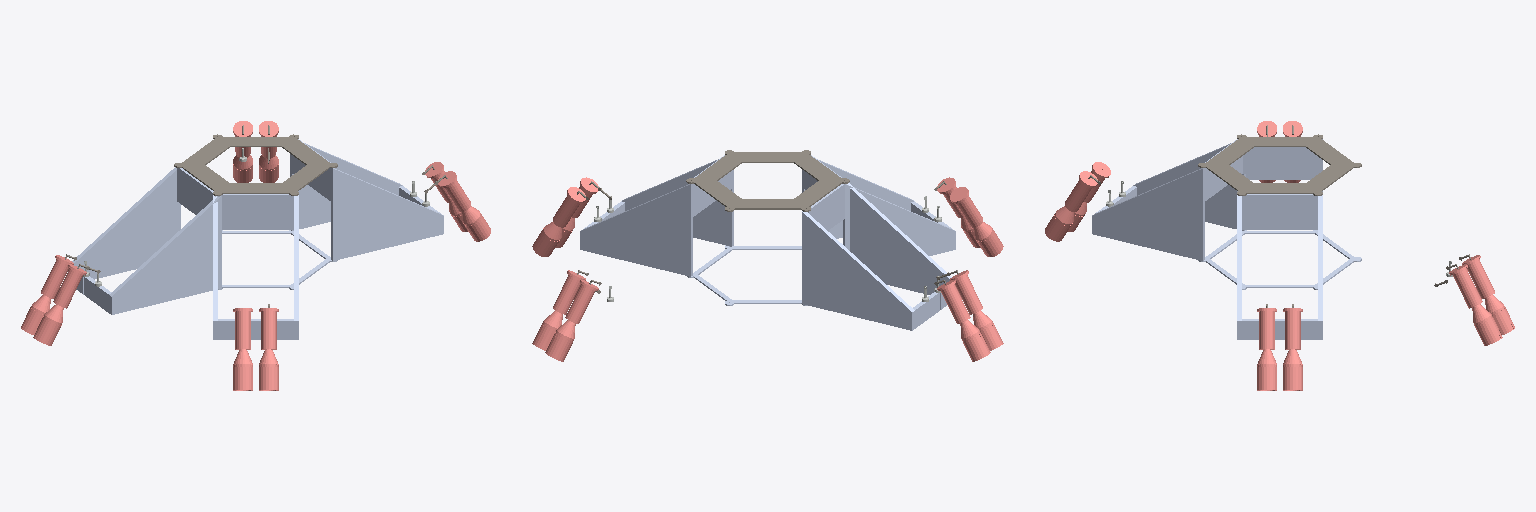
--- Facts derived from the render (not from the file) ---
The picture shows the robot from 3 angles, left to right: view 1: azimuth 30°, elevation 25°; view 2: azimuth 150°, elevation 25°; view 3: azimuth 270°, elevation 25°; orthographic projection.
Robot: msl_skycrane — 38 links, 37 joints (37 fixed); root link base_link; default pose: all joints at 0.
Visible links, largest first — view 1: arm_3, arm_1, arm_2, top_plate, engine_30, engine_20, engine_21, engine_11, engine_31, engine_01, engine_00, base_link (+1 smaller); view 2: arm_3, arm_1, top_plate, arm_2, engine_31, engine_00, engine_21, engine_10, engine_30, engine_01, base_link, engine_20 (+1 smaller); view 3: arm_2, arm_1, top_plate, arm_3, engine_01, engine_10, engine_11, engine_20, base_link, engine_00, engine_21.
Boxes of the visible links, x1,y1,x2,y2 form: arm_3: (72,167,221,314); arm_1: (290,139,443,260); arm_2: (213,194,298,339); top_plate: (174,134,337,195); engine_30: (33,264,86,345); engine_20: (259,308,278,390); engine_21: (233,308,252,390); engine_11: (438,171,490,241); engine_31: (21,255,73,334); engine_01: (259,121,278,182); engine_00: (233,121,252,182); base_link: (218,230,337,289); arm_3: (802,183,951,330); arm_1: (580,155,733,276); top_plate: (686,150,849,211); arm_2: (802,155,955,255); engine_31: (937,280,990,361); engine_00: (545,280,598,361); engine_21: (950,187,1003,256); engine_10: (532,187,585,256); engine_30: (950,270,1003,350); engine_01: (532,270,585,350); base_link: (687,245,807,305); engine_20: (937,177,980,247); arm_2: (1092,139,1245,260); arm_1: (1237,194,1322,339); top_plate: (1198,134,1361,195); arm_3: (1237,139,1322,191); engine_01: (1449,264,1502,345); engine_10: (1283,308,1302,390); engine_11: (1257,308,1276,390); engine_20: (1045,171,1097,241); base_link: (1198,230,1361,289); engine_00: (1462,255,1514,334); engine_21: (1068,162,1110,231).
Size in the robot's own frame: 10.27 by 9.21 by 2.66 metres.
30 mesh visuals loaded from 38 distinct referenced files (30 binary STL); not drawn: 8 (reference not matched to a file when rendering).

robot.urdf — msl_skycrane:
<robot
  name="msl_skycrane">
  <link
    name="base_link">
    <inertial>
      <origin
        xyz="0.082244 -1.9129 -0.12297"
        rpy="0 0 0" />
      <mass
        value="85.813" />
      <inertia
        ixx="77.114"
        ixy="3.0214E-17"
        ixz="2.8095E-13"
        iyy="154.22"
        iyz="-8.04E-17"
        izz="77.114" />
    </inertial>
    <visual>
      <origin
        xyz="0 0 0"
        rpy="0 0 0" />
      <geometry>
        <mesh
          filename="package://msl_skycrane_description/meshes/base_link.STL" />
      </geometry>
      <material
        name="">
        <color
          rgba="0.86667 0.9098 1 1" />
      </material>
    </visual>
    <collision>
      <origin
        xyz="0 0 0"
        rpy="0 0 0" />
      <geometry>
        <mesh
          filename="package://msl_skycrane_description/meshes/base_link.STL" />
      </geometry>
    </collision>
  </link>
  <link
    name="top_plate">
    <inertial>
      <origin
        xyz="4.6074E-15 0.015 3.321E-14"
        rpy="0 0 0" />
      <mass
        value="794.77" />
      <inertia
        ixx="552.55"
        ixy="1.5918E-15"
        ixz="7.0543E-13"
        iyy="1105"
        iyz="-1.8007E-16"
        izz="552.55" />
    </inertial>
    <visual>
      <origin
        xyz="0 0 0"
        rpy="0 0 0" />
      <geometry>
        <mesh
          filename="package://msl_skycrane_description/meshes/top_plate.STL" />
      </geometry>
      <material
        name="">
        <color
          rgba="0.64706 0.61961 0.58824 1" />
      </material>
    </visual>
    <collision>
      <origin
        xyz="0 0 0"
        rpy="0 0 0" />
      <geometry>
        <mesh
          filename="package://msl_skycrane_description/meshes/top_plate.STL" />
      </geometry>
    </collision>
  </link>
  <joint
    name="top_plate_joint"
    type="fixed">
    <origin
      xyz="0.0822438122963676 0.122966095828938 0.102116404890112"
      rpy="1.5707963267949 0 0" />
    <parent
      link="base_link" />
    <child
      link="top_plate" />
    <axis
      xyz="0 0 0" />
  </joint>
  <link
    name="arm_0">
    <inertial>
      <origin
        xyz="0.95244 0.78731 0.85"
        rpy="0 0 0" />
      <mass
        value="2089.2" />
      <inertia
        ixx="1784.2"
        ixy="-606.12"
        ixz="5.6843E-14"
        iyy="2459.6"
        iyz="2.7853E-12"
        izz="1988.7" />
    </inertial>
    <visual>
      <origin
        xyz="0 0 0"
        rpy="0 0 0" />
      <geometry>
        <mesh
          filename="package://msl_skycrane_description/meshes/arm_0.STL" />
      </geometry>
      <material
        name="">
        <color
          rgba="0.86667 0.9098 1 1" />
      </material>
    </visual>
    <collision>
      <origin
        xyz="0 0 0"
        rpy="0 0 0" />
      <geometry>
        <mesh
          filename="package://msl_skycrane_description/meshes/arm_0.STL" />
      </geometry>
    </collision>
  </link>
  <joint
    name="arm_0_joint"
    type="fixed">
    <origin
      xyz="-0.111602540378444 -2 -1.50669872981078"
      rpy="0 1.04719755119662 0" />
    <parent
      link="top_plate" />
    <child
      link="arm_0" />
    <axis
      xyz="0 0 0" />
  </joint>
  <link
    name="shoulder_00">
    <inertial>
      <origin
        xyz="-0.00011974 2.2204E-16 0.057176"
        rpy="0 0 0" />
      <mass
        value="8.0556" />
      <inertia
        ixx="0.046837"
        ixy="-1.7347E-18"
        ixz="3.9084E-05"
        iyy="0.046839"
        iyz="3.3644E-18"
        izz="0.017099" />
    </inertial>
    <visual>
      <origin
        xyz="0 0 0"
        rpy="0 0 0" />
      <geometry>
        <mesh
          filename="package://msl_skycrane_description/meshes/shoulder_00.STL" />
      </geometry>
      <material
        name="">
        <color
          rgba="0.82745 0.83922 0.82745 1" />
      </material>
    </visual>
    <collision>
      <origin
        xyz="0 0 0"
        rpy="0 0 0" />
      <geometry>
        <mesh
          filename="package://msl_skycrane_description/meshes/shoulder_00.STL" />
      </geometry>
    </collision>
  </link>
  <joint
    name="shoulder_00_joint"
    type="fixed">
    <origin
      xyz="2.45 0.4 0.6"
      rpy="-1.5708 -1.2046E-14 0" />
    <parent
      link="arm_0" />
    <child
      link="shoulder_00" />
    <axis
      xyz="0 0 0" />
  </joint>
  <link
    name="elbow_00">
    <inertial>
      <origin
        xyz="-0.24673 0.27696 2.4425E-15"
        rpy="0 0 0" />
      <mass
        value="3.036" />
      <inertia
        ixx="0.027063"
        ixy="4.7759E-17"
        ixz="1.301E-18"
        iyy="0.00082504"
        iyz="1.8613E-16"
        izz="0.027348" />
    </inertial>
    <visual>
      <origin
        xyz="0 0 0"
        rpy="0 0 0" />
      <geometry>
        <mesh
          filename="package://msl_skycrane_description/meshes/elbow_00.STL" />
      </geometry>
      <material
        name="">
        <color
          rgba="0.64706 0.61961 0.58824 1" />
      </material>
    </visual>
    <collision>
      <origin
        xyz="0 0 0"
        rpy="0 0 0" />
      <geometry>
        <mesh
          filename="package://msl_skycrane_description/meshes/elbow_00.STL" />
      </geometry>
    </collision>
  </link>
  <joint
    name="elbow_00_joint"
    type="fixed">
    <origin
      xyz="0 0 0"
      rpy="1.5708 1.0472 2.2093E-14" />
    <parent
      link="shoulder_00" />
    <child
      link="elbow_00" />
    <axis
      xyz="0 0 0" />
  </joint>
  <link
    name="wrist_00">
    <inertial>
      <origin
        xyz="0.0098378 0.097856 6.4721E-08"
        rpy="0 0 0" />
      <mass
        value="2.6791" />
      <inertia
        ixx="0.014318"
        ixy="-0.002172"
        ixz="7.8002E-09"
        iyy="0.0020544"
        iyz="-1.0625E-08"
        izz="0.015916" />
    </inertial>
    <visual>
      <origin
        xyz="0 0 0"
        rpy="0 0 0" />
      <geometry>
        <mesh
          filename="package://msl_skycrane_description/meshes/wrist_00.STL" />
      </geometry>
      <material
        name="">
        <color
          rgba="0.64706 0.61961 0.58824 1" />
      </material>
    </visual>
    <collision>
      <origin
        xyz="0 0 0"
        rpy="0 0 0" />
      <geometry>
        <mesh
          filename="package://msl_skycrane_description/meshes/wrist_00.STL" />
      </geometry>
    </collision>
  </link>
  <joint
    name="wrist_00_joint"
    type="fixed">
    <origin
      xyz="-0.24651 0.64624 0"
      rpy="3.1416 5.5511E-17 -9.5479E-15" />
    <parent
      link="elbow_00" />
    <child
      link="wrist_00" />
    <axis
      xyz="0 0 0" />
  </joint>
  <link
    name="engine_00">
    <inertial>
      <origin
        xyz="0.19997 0.87755 1.7542E-14"
        rpy="0 0 0" />
      <mass
        value="793.36" />
      <inertia
        ixx="190.59"
        ixy="0.010634"
        ixz="-2.1316E-14"
        iyy="14.562"
        iyz="3.3367E-12"
        izz="190.58" />
    </inertial>
    <visual>
      <origin
        xyz="0 0 0"
        rpy="0 0 0" />
      <geometry>
        <mesh
          filename="package://msl_skycrane_description/meshes/engine_00.STL" />
      </geometry>
      <material
        name="">
        <color
          rgba="1 0.64706 0.62745 1" />
      </material>
    </visual>
    <collision>
      <origin
        xyz="0 0 0"
        rpy="0 0 0" />
      <geometry>
        <mesh
          filename="package://msl_skycrane_description/meshes/engine_00.STL" />
      </geometry>
    </collision>
  </link>
  <joint
    name="engine_00_joint"
    type="fixed">
    <origin
      xyz="1.68 0.215 0"
      rpy="3.1416 5.5511E-17 -1.5708" />
    <parent
      link="wrist_00" />
    <child
      link="engine_00" />
    <axis
      xyz="0 0 0" />
  </joint>
  <link
    name="shoulder_01">
    <inertial>
      <origin
        xyz="-0.00011974 -2.2204E-16 0.057176"
        rpy="0 0 0" />
      <mass
        value="8.0556" />
      <inertia
        ixx="0.046837"
        ixy="-8.6736E-18"
        ixz="3.9084E-05"
        iyy="0.046839"
        iyz="8.4703E-19"
        izz="0.017099" />
    </inertial>
    <visual>
      <origin
        xyz="0 0 0"
        rpy="0 0 0" />
      <geometry>
        <mesh
          filename="package://msl_skycrane_description/meshes/shoulder_01.STL" />
      </geometry>
      <material
        name="">
        <color
          rgba="0.82745 0.83922 0.82745 1" />
      </material>
    </visual>
    <collision>
      <origin
        xyz="0 0 0"
        rpy="0 0 0" />
      <geometry>
        <mesh
          filename="package://msl_skycrane_description/meshes/shoulder_01.STL" />
      </geometry>
    </collision>
  </link>
  <joint
    name="shoulder_01_joint"
    type="fixed">
    <origin
      xyz="2.45 0.4 1.1"
      rpy="-1.5708 -1.2046E-14 0" />
    <parent
      link="arm_0" />
    <child
      link="shoulder_01" />
    <axis
      xyz="0 0 0" />
  </joint>
  <link
    name="elbow_01">
    <inertial>
      <origin
        xyz="-0.24673 0.27696 1.1102E-15"
        rpy="0 0 0" />
      <mass
        value="3.036" />
      <inertia
        ixx="0.027063"
        ixy="3.6754E-17"
        ixz="-1.301E-18"
        iyy="0.00082504"
        iyz="2.1646E-16"
        izz="0.027348" />
    </inertial>
    <visual>
      <origin
        xyz="0 0 0"
        rpy="0 0 0" />
      <geometry>
        <mesh
          filename="package://msl_skycrane_description/meshes/elbow_01.STL" />
      </geometry>
      <material
        name="">
        <color
          rgba="0.64706 0.61961 0.58824 1" />
      </material>
    </visual>
    <collision>
      <origin
        xyz="0 0 0"
        rpy="0 0 0" />
      <geometry>
        <mesh
          filename="package://msl_skycrane_description/meshes/elbow_01.STL" />
      </geometry>
    </collision>
  </link>
  <joint
    name="elbow_01_joint"
    type="fixed">
    <origin
      xyz="0 0 0"
      rpy="1.5708 1.0472 2.2093E-14" />
    <parent
      link="shoulder_01" />
    <child
      link="elbow_01" />
    <axis
      xyz="0 0 0" />
  </joint>
  <link
    name="wrist_01">
    <inertial>
      <origin
        xyz="0.0098378 0.097856 6.4721E-08"
        rpy="0 0 0" />
      <mass
        value="2.6791" />
      <inertia
        ixx="0.014318"
        ixy="-0.002172"
        ixz="7.8002E-09"
        iyy="0.0020544"
        iyz="-1.0625E-08"
        izz="0.015916" />
    </inertial>
    <visual>
      <origin
        xyz="0 0 0"
        rpy="0 0 0" />
      <geometry>
        <mesh
          filename="package://msl_skycrane_description/meshes/wrist_01.STL" />
      </geometry>
      <material
        name="">
        <color
          rgba="0.64706 0.61961 0.58824 1" />
      </material>
    </visual>
    <collision>
      <origin
        xyz="0 0 0"
        rpy="0 0 0" />
      <geometry>
        <mesh
          filename="package://msl_skycrane_description/meshes/wrist_01.STL" />
      </geometry>
    </collision>
  </link>
  <joint
    name="wrist_01_joint"
    type="fixed">
    <origin
      xyz="-0.24651 0.64624 0"
      rpy="3.1416 5.5511E-17 -9.5479E-15" />
    <parent
      link="elbow_01" />
    <child
      link="wrist_01" />
    <axis
      xyz="0 0 0" />
  </joint>
  <link
    name="engine_01">
    <inertial>
      <origin
        xyz="0.19997 0.87755 1.9762E-14"
        rpy="0 0 0" />
      <mass
        value="793.36" />
      <inertia
        ixx="190.59"
        ixy="0.010634"
        ixz="-3.5527E-14"
        iyy="14.562"
        iyz="3.6506E-12"
        izz="190.58" />
    </inertial>
    <visual>
      <origin
        xyz="0 0 0"
        rpy="0 0 0" />
      <geometry>
        <mesh
          filename="package://msl_skycrane_description/meshes/engine_01.STL" />
      </geometry>
      <material
        name="">
        <color
          rgba="1 0.64706 0.62745 1" />
      </material>
    </visual>
    <collision>
      <origin
        xyz="0 0 0"
        rpy="0 0 0" />
      <geometry>
        <mesh
          filename="package://msl_skycrane_description/meshes/engine_01.STL" />
      </geometry>
    </collision>
  </link>
  <joint
    name="engine_01_joint"
    type="fixed">
    <origin
      xyz="1.68 0.215 0"
      rpy="3.1416 5.5511E-17 -1.5708" />
    <parent
      link="wrist_01" />
    <child
      link="engine_01" />
    <axis
      xyz="0 0 0" />
  </joint>
  <link
    name="arm_1">
    <inertial>
      <origin
        xyz="0.952435824722872 0.787310574656656 0.85"
        rpy="0 0 0" />
      <mass
        value="2089.22272867894" />
      <inertia
        ixx="1784.16663646343"
        ixy="-606.123978386156"
        ixz="-1.52846396980097E-14"
        iyy="2459.59622293676"
        iyz="-5.22626040652113E-13"
        izz="1988.70377359282" />
    </inertial>
    <visual>
      <origin
        xyz="0 0 0"
        rpy="0 0 0" />
      <geometry>
        <mesh
          filename="package://msl_skycrane_description/meshes/arm_1.STL" />
      </geometry>
      <material
        name="">
        <color
          rgba="0.866666666666667 0.909803921568627 1 1" />
      </material>
    </visual>
    <collision>
      <origin
        xyz="0 0 0"
        rpy="0 0 0" />
      <geometry>
        <mesh
          filename="package://msl_skycrane_description/meshes/arm_1.STL" />
      </geometry>
    </collision>
  </link>
  <joint
    name="arm_1_joint"
    type="fixed">
    <origin
      xyz="1.249 -2 -0.85"
      rpy="0 0 0" />
    <parent
      link="top_plate" />
    <child
      link="arm_1" />
    <axis
      xyz="0 0 0" />
  </joint>
  <link
    name="shoulder_10">
    <inertial>
      <origin
        xyz="-0.00011974 0 0.057176"
        rpy="0 0 0" />
      <mass
        value="8.0556" />
      <inertia
        ixx="0.046837"
        ixy="2.9763E-20"
        ixz="3.9084E-05"
        iyy="0.046839"
        iyz="-1.8835E-17"
        izz="0.017099" />
    </inertial>
    <visual>
      <origin
        xyz="0 0 0"
        rpy="0 0 0" />
      <geometry>
        <mesh
          filename="package://msl_skycrane_description/meshes/shoulder_10.STL" />
      </geometry>
      <material
        name="">
        <color
          rgba="0.82745 0.83922 0.82745 1" />
      </material>
    </visual>
    <collision>
      <origin
        xyz="0 0 0"
        rpy="0 0 0" />
      <geometry>
        <mesh
          filename="package://msl_skycrane_description/meshes/shoulder_10.STL" />
      </geometry>
    </collision>
  </link>
  <joint
    name="shoulder_10_joint"
    type="fixed">
    <origin
      xyz="2.45 0.4 0.6"
      rpy="-1.5708 0 0" />
    <parent
      link="arm_1" />
    <child
      link="shoulder_10" />
    <axis
      xyz="0 0 0" />
  </joint>
  <link
    name="elbow_10">
    <inertial>
      <origin
        xyz="-0.24673 0.27696 -1.1102E-16"
        rpy="0 0 0" />
      <mass
        value="3.036" />
      <inertia
        ixx="0.027063"
        ixy="-2.9303E-16"
        ixz="-4.7738E-19"
        iyy="0.00082504"
        iyz="5.8088E-18"
        izz="0.027348" />
    </inertial>
    <visual>
      <origin
        xyz="0 0 0"
        rpy="0 0 0" />
      <geometry>
        <mesh
          filename="package://msl_skycrane_description/meshes/elbow_10.STL" />
      </geometry>
      <material
        name="">
        <color
          rgba="0.64706 0.61961 0.58824 1" />
      </material>
    </visual>
    <collision>
      <origin
        xyz="0 0 0"
        rpy="0 0 0" />
      <geometry>
        <mesh
          filename="package://msl_skycrane_description/meshes/elbow_10.STL" />
      </geometry>
    </collision>
  </link>
  <joint
    name="elbow_10_joint"
    type="fixed">
    <origin
      xyz="0 0 0"
      rpy="1.5708 1.0472 0" />
    <parent
      link="shoulder_10" />
    <child
      link="elbow_10" />
    <axis
      xyz="0 0 0" />
  </joint>
  <link
    name="wrist_10">
    <inertial>
      <origin
        xyz="0.0098378 0.097856 1.53E-08"
        rpy="0 0 0" />
      <mass
        value="2.6791" />
      <inertia
        ixx="0.014318"
        ixy="-0.002172"
        ixz="6.7229E-09"
        iyy="0.0020544"
        iyz="-9.2676E-09"
        izz="0.015916" />
    </inertial>
    <visual>
      <origin
        xyz="0 0 0"
        rpy="0 0 0" />
      <geometry>
        <mesh
          filename="package://msl_skycrane_description/meshes/wrist_10.STL" />
      </geometry>
      <material
        name="">
        <color
          rgba="0.64706 0.61961 0.58824 1" />
      </material>
    </visual>
    <collision>
      <origin
        xyz="0 0 0"
        rpy="0 0 0" />
      <geometry>
        <mesh
          filename="package://msl_skycrane_description/meshes/wrist_10.STL" />
      </geometry>
    </collision>
  </link>
  <joint
    name="wrist_10_joint"
    type="fixed">
    <origin
      xyz="-0.24651 0.64624 0"
      rpy="3.1416 0 3.1863E-14" />
    <parent
      link="elbow_10" />
    <child
      link="wrist_10" />
    <axis
      xyz="0 0 0" />
  </joint>
  <link
    name="engine_10">
    <inertial>
      <origin
        xyz="0.19997 0.87755 1.1102E-15"
        rpy="0 0 0" />
      <mass
        value="793.36" />
      <inertia
        ixx="190.59"
        ixy="0.010634"
        ixz="4.3464E-16"
        iyy="14.562"
        iyz="1.4392E-13"
        izz="190.58" />
    </inertial>
    <visual>
      <origin
        xyz="0 0 0"
        rpy="0 0 0" />
      <geometry>
        <mesh
          filename="package://msl_skycrane_description/meshes/engine_10.STL" />
      </geometry>
      <material
        name="">
        <color
          rgba="1 0.64706 0.62745 1" />
      </material>
    </visual>
    <collision>
      <origin
        xyz="0 0 0"
        rpy="0 0 0" />
      <geometry>
        <mesh
          filename="package://msl_skycrane_description/meshes/engine_10.STL" />
      </geometry>
    </collision>
  </link>
  <joint
    name="engine_10_joint"
    type="fixed">
    <origin
      xyz="1.68 0.215 0"
      rpy="3.1416 0 -1.5708" />
    <parent
      link="wrist_10" />
    <child
      link="engine_10" />
    <axis
      xyz="0 0 0" />
  </joint>
  <link
    name="shoulder_11">
    <inertial>
      <origin
        xyz="-0.00011974 -2.7756E-17 0.057176"
        rpy="0 0 0" />
      <mass
        value="8.0556" />
      <inertia
        ixx="0.046837"
        ixy="1.2825E-20"
        ixz="3.9084E-05"
        iyy="0.046839"
        iyz="-2.0279E-17"
        izz="0.017099" />
    </inertial>
    <visual>
      <origin
        xyz="0 0 0"
        rpy="0 0 0" />
      <geometry>
        <mesh
          filename="package://msl_skycrane_description/meshes/shoulder_11.STL" />
      </geometry>
      <material
        name="">
        <color
          rgba="0.82745 0.83922 0.82745 1" />
      </material>
    </visual>
    <collision>
      <origin
        xyz="0 0 0"
        rpy="0 0 0" />
      <geometry>
        <mesh
          filename="package://msl_skycrane_description/meshes/shoulder_11.STL" />
      </geometry>
    </collision>
  </link>
  <joint
    name="shoulder_11_joint"
    type="fixed">
    <origin
      xyz="2.45 0.4 1.1"
      rpy="-1.5708 0 0" />
    <parent
      link="arm_1" />
    <child
      link="shoulder_11" />
    <axis
      xyz="0 0 0" />
  </joint>
  <link
    name="elbow_11">
    <inertial>
      <origin
        xyz="-0.24673 0.27696 3.0531E-16"
        rpy="0 0 0" />
      <mass
        value="3.036" />
      <inertia
        ixx="0.027063"
        ixy="-2.9227E-16"
        ixz="-2.2806E-19"
        iyy="0.00082504"
        iyz="1.2057E-17"
        izz="0.027348" />
    </inertial>
    <visual>
      <origin
        xyz="0 0 0"
        rpy="0 0 0" />
      <geometry>
        <mesh
          filename="package://msl_skycrane_description/meshes/elbow_11.STL" />
      </geometry>
      <material
        name="">
        <color
          rgba="0.64706 0.61961 0.58824 1" />
      </material>
    </visual>
    <collision>
      <origin
        xyz="0 0 0"
        rpy="0 0 0" />
      <geometry>
        <mesh
          filename="package://msl_skycrane_description/meshes/elbow_11.STL" />
      </geometry>
    </collision>
  </link>
  <joint
    name="elbow_11_joint"
    type="fixed">
    <origin
      xyz="0 0 0"
      rpy="1.5708 1.0472 0" />
    <parent
      link="shoulder_11" />
    <child
      link="elbow_11" />
    <axis
      xyz="0 0 0" />
  </joint>
  <link
    name="wrist_11">
    <inertial>
      <origin
        xyz="0.0098378 0.097856 1.53E-08"
        rpy="0 0 0" />
      <mass
        value="2.6791" />
      <inertia
        ixx="0.014318"
        ixy="-0.002172"
        ixz="6.7229E-09"
        iyy="0.0020544"
        iyz="-9.2676E-09"
        izz="0.015916" />
    </inertial>
    <visual>
      <origin
        xyz="0 0 0"
        rpy="0 0 0" />
      <geometry>
        <mesh
          filename="package://msl_skycrane_description/meshes/wrist_11.STL" />
      </geometry>
      <material
        name="">
        <color
          rgba="0.64706 0.61961 0.58824 1" />
      </material>
    </visual>
    <collision>
      <origin
        xyz="0 0 0"
        rpy="0 0 0" />
      <geometry>
        <mesh
          filename="package://msl_skycrane_description/meshes/wrist_11.STL" />
      </geometry>
    </collision>
  </link>
  <joint
    name="wrist_11_joint"
    type="fixed">
    <origin
      xyz="-0.24651 0.64624 0"
      rpy="3.1416 0 3.1863E-14" />
    <parent
      link="elbow_11" />
    <child
      link="wrist_11" />
    <axis
      xyz="0 0 0" />
  </joint>
  <link
    name="engine_11">
    <inertial>
      <origin
        xyz="0.19997 0.87755 5.2736E-16"
        rpy="0 0 0" />
      <mass
        value="793.36" />
      <inertia
        ixx="190.59"
        ixy="0.010634"
        ixz="2.1274E-15"
        iyy="14.562"
        iyz="4.252E-14"
        izz="190.58" />
    </inertial>
    <visual>
      <origin
        xyz="0 0 0"
        rpy="0 0 0" />
      <geometry>
        <mesh
          filename="package://msl_skycrane_description/meshes/engine_11.STL" />
      </geometry>
      <material
        name="">
        <color
          rgba="1 0.64706 0.62745 1" />
      </material>
    </visual>
    <collision>
      <origin
        xyz="0 0 0"
        rpy="0 0 0" />
      <geometry>
        <mesh
          filename="package://msl_skycrane_description/meshes/engine_11.STL" />
      </geometry>
    </collision>
  </link>
  <joint
    name="engine_11_joint"
    type="fixed">
    <origin
      xyz="1.68 0.215 0"
      rpy="3.1416 0 -1.5708" />
    <parent
      link="wrist_11" />
    <child
      link="engine_11" />
    <axis
      xyz="0 0 0" />
  </joint>
  <link
    name="arm_2">
    <inertial>
      <origin
        xyz="0.952435824722876 0.787310574656658 0.849999999999995"
        rpy="0 0 0" />
      <mass
        value="2089.22272867895" />
      <inertia
        ixx="1784.16663646343"
        ixy="-606.123978386155"
        ixz="-2.04636307898909E-12"
        iyy="2459.59622293676"
        iyz="3.5242919693701E-12"
        izz="1988.70377359283" />
    </inertial>
    <visual>
      <origin
        xyz="0 0 0"
        rpy="0 0 0" />
      <geometry>
        <mesh
          filename="package://msl_skycrane_description/meshes/arm_2.STL" />
      </geometry>
      <material
        name="">
        <color
          rgba="0.866666666666667 0.909803921568627 1 1" />
      </material>
    </visual>
    <collision>
      <origin
        xyz="0 0 0"
        rpy="0 0 0" />
      <geometry>
        <mesh
          filename="package://msl_skycrane_description/meshes/arm_2.STL" />
      </geometry>
    </collision>
  </link>
  <joint
    name="arm_2_joint"
    type="fixed">
    <origin
      xyz="0.1116 -2 1.5067"
      rpy="3.1416 -1.0472 3.1416" />
    <parent
      link="top_plate" />
    <child
      link="arm_2" />
    <axis
      xyz="0 0 0" />
  </joint>
  <link
    name="shoulder_20">
    <inertial>
      <origin
        xyz="-0.000119737245782847 0 0.0571755103503968"
        rpy="0 0 0" />
      <mass
        value="8.05560156812752" />
      <inertia
        ixx="0.0468374920636485"
        ixy="0"
        ixz="3.90837016729611E-05"
        iyy="0.0468393660641385"
        iyz="1.96816575624009E-17"
        izz="0.0170993582585797" />
    </inertial>
    <visual>
      <origin
        xyz="0 0 0"
        rpy="0 0 0" />
      <geometry>
        <mesh
          filename="package://msl_skycrane_description/meshes/shoulder_20.STL" />
      </geometry>
      <material
        name="">
        <color
          rgba="0.827450980392157 0.83921568627451 0.827450980392157 1" />
      </material>
    </visual>
    <collision>
      <origin
        xyz="0 0 0"
        rpy="0 0 0" />
      <geometry>
        <mesh
          filename="package://msl_skycrane_description/meshes/shoulder_20.STL" />
      </geometry>
    </collision>
  </link>
  <joint
    name="shoulder_20_joint"
    type="fixed">
    <origin
      xyz="2.45 0.4 0.6"
      rpy="-1.5708 -1.2046E-14 0" />
    <parent
      link="arm_2" />
    <child
      link="shoulder_20" />
    <axis
      xyz="0 0 0" />
  </joint>
  <link
    name="elbow_20">
    <inertial>
      <origin
        xyz="-0.000223548856633116 0.1 2.22044604925031E-16"
        rpy="0 0 0" />
      <mass
        value="3.03601604481673" />
      <inertia
        ixx="0.027062895785137"
        ixy="4.16198108962873E-16"
        ixz="-4.33680868994202E-19"
        iyy="0.000825043270771542"
        iyz="1.80872027424894E-16"
        izz="0.0273478762721397" />
    </inertial>
    <visual>
      <origin
        xyz="0 0 0"
        rpy="0 0 0" />
      <geometry>
        <mesh
          filename="package://msl_skycrane_description/meshes/elbow_20.STL" />
      </geometry>
      <material
        name="">
        <color
          rgba="0.647058823529412 0.619607843137255 0.588235294117647 1" />
      </material>
    </visual>
    <collision>
      <origin
        xyz="0 0 0"
        rpy="0 0 0" />
      <geometry>
        <mesh
          filename="package://msl_skycrane_description/meshes/elbow_20.STL" />
      </geometry>
    </collision>
  </link>
  <joint
    name="elbow_20_joint"
    type="fixed">
    <origin
      xyz="0.20321 0 0.40196"
      rpy="-1.5708 1.0472 2.2093E-14" />
    <parent
      link="shoulder_20" />
    <child
      link="elbow_20" />
    <axis
      xyz="0 0 0" />
  </joint>
  <link
    name="wrist_20">
    <inertial>
      <origin
        xyz="0.00983784834892454 0.0978560710160052 6.47214095650384E-08"
        rpy="0 0 0" />
      <mass
        value="2.67913313983108" />
      <inertia
        ixx="0.0143180994434798"
        ixy="-0.00217201144733048"
        ixz="7.80023276070012E-09"
        iyy="0.00205437189801486"
        iyz="-1.06249796345001E-08"
        izz="0.0159156661072159" />
    </inertial>
    <visual>
      <origin
        xyz="0 0 0"
        rpy="0 0 0" />
      <geometry>
        <mesh
          filename="package://msl_skycrane_description/meshes/wrist_20.STL" />
      </geometry>
      <material
        name="">
        <color
          rgba="0.647058823529412 0.619607843137255 0.588235294117647 1" />
      </material>
    </visual>
    <collision>
      <origin
        xyz="0 0 0"
        rpy="0 0 0" />
      <geometry>
        <mesh
          filename="package://msl_skycrane_description/meshes/wrist_20.STL" />
      </geometry>
    </collision>
  </link>
  <joint
    name="wrist_20_joint"
    type="fixed">
    <origin
      xyz="0 -0.26928 0"
      rpy="-5.5511E-17 -5.5511E-17 -9.6034E-15" />
    <parent
      link="elbow_20" />
    <child
      link="wrist_20" />
    <axis
      xyz="0 0 0" />
  </joint>
  <link
    name="engine_20">
    <inertial>
      <origin
        xyz="0.199974015495008 0.877545107523058 1.86517468137026E-14"
        rpy="0 0 0" />
      <mass
        value="793.355843738094" />
      <inertia
        ixx="190.586500724057"
        ixy="0.0106339468597358"
        ixz="-7.105427357601E-15"
        iyy="14.5624503451681"
        iyz="3.52762263844397E-12"
        izz="190.582428992398" />
    </inertial>
    <visual>
      <origin
        xyz="0 0 0"
        rpy="0 0 0" />
      <geometry>
        <mesh
          filename="package://msl_skycrane_description/meshes/engine_20.STL" />
      </geometry>
      <material
        name="">
        <color
          rgba="1 0.647058823529412 0.627450980392157 1" />
      </material>
    </visual>
    <collision>
      <origin
        xyz="0 0 0"
        rpy="0 0 0" />
      <geometry>
        <mesh
          filename="package://msl_skycrane_description/meshes/engine_20.STL" />
      </geometry>
    </collision>
  </link>
  <joint
    name="engine_20_joint"
    type="fixed">
    <origin
      xyz="1.68 0.215 0"
      rpy="3.1416 5.5511E-17 -1.5708" />
    <parent
      link="wrist_20" />
    <child
      link="engine_20" />
    <axis
      xyz="0 0 0" />
  </joint>
  <link
    name="shoulder_21">
    <inertial>
      <origin
        xyz="-0.000119737245781959 0 0.0571755103503968"
        rpy="0 0 0" />
      <mass
        value="8.05560156812752" />
      <inertia
        ixx="0.0468374920636485"
        ixy="1.73472347597681E-18"
        ixz="3.90837016729671E-05"
        iyy="0.0468393660641385"
        iyz="3.03983184110623E-17"
        izz="0.0170993582585797" />
    </inertial>
    <visual>
      <origin
        xyz="0 0 0"
        rpy="0 0 0" />
      <geometry>
        <mesh
          filename="package://msl_skycrane_description/meshes/shoulder_21.STL" />
      </geometry>
      <material
        name="">
        <color
          rgba="0.827450980392157 0.83921568627451 0.827450980392157 1" />
      </material>
    </visual>
    <collision>
      <origin
        xyz="0 0 0"
        rpy="0 0 0" />
      <geometry>
        <mesh
          filename="package://msl_skycrane_description/meshes/shoulder_21.STL" />
      </geometry>
    </collision>
  </link>
  <joint
    name="shoulder_21_joint"
    type="fixed">
    <origin
      xyz="2.45 0.4 1.1"
      rpy="-1.5708 -1.2046E-14 0" />
    <parent
      link="arm_2" />
    <child
      link="shoulder_21" />
    <axis
      xyz="0 0 0" />
  </joint>
  <link
    name="elbow_21">
    <inertial>
      <origin
        xyz="0.246282802089475 0.276961524227066 -2.22044604925031E-15"
        rpy="0 0 0" />
      <mass
        value="3.03601604481672" />
      <inertia
        ixx="0.027062895785137"
        ixy="-4.2934406030426E-17"
        ixz="-4.33680868994202E-18"
        iyy="0.000825043270771546"
        iyz="-1.74719180096039E-16"
        izz="0.0273478762721397" />
    </inertial>
    <visual>
      <origin
        xyz="0 0 0"
        rpy="0 0 0" />
      <geometry>
        <mesh
          filename="package://msl_skycrane_description/meshes/elbow_21.STL" />
      </geometry>
      <material
        name="">
        <color
          rgba="0.647058823529412 0.619607843137255 0.588235294117647 1" />
      </material>
    </visual>
    <collision>
      <origin
        xyz="0 0 0"
        rpy="0 0 0" />
      <geometry>
        <mesh
          filename="package://msl_skycrane_description/meshes/elbow_21.STL" />
      </geometry>
    </collision>
  </link>
  <joint
    name="elbow_21_joint"
    type="fixed">
    <origin
      xyz="0 0 0"
      rpy="1.5708 -1.0472 -3.1416" />
    <parent
      link="shoulder_21" />
    <child
      link="elbow_21" />
    <axis
      xyz="0 0 0" />
  </joint>
  <link
    name="wrist_21">
    <inertial>
      <origin
        xyz="0.00983784834892543 0.0978560710160044 6.47214095650384E-08"
        rpy="0 0 0" />
      <mass
        value="2.67913313983112" />
      <inertia
        ixx="0.0143180994434801"
        ixy="-0.00217201144733051"
        ixz="7.80023274465393E-09"
        iyy="0.00205437189801488"
        iyz="-1.06249796160958E-08"
        izz="0.0159156661072161" />
    </inertial>
    <visual>
      <origin
        xyz="0 0 0"
        rpy="0 0 0" />
      <geometry>
        <mesh
          filename="package://msl_skycrane_description/meshes/wrist_21.STL" />
      </geometry>
      <material
        name="">
        <color
          rgba="0.647058823529412 0.619607843137255 0.588235294117647 1" />
      </material>
    </visual>
    <collision>
      <origin
        xyz="0 0 0"
        rpy="0 0 0" />
      <geometry>
        <mesh
          filename="package://msl_skycrane_description/meshes/wrist_21.STL" />
      </geometry>
    </collision>
  </link>
  <joint
    name="wrist_21_joint"
    type="fixed">
    <origin
      xyz="0.24651 0.64624 0"
      rpy="0 -5.5511E-17 -3.1416" />
    <parent
      link="elbow_21" />
    <child
      link="wrist_21" />
    <axis
      xyz="0 0 0" />
  </joint>
  <link
    name="engine_21">
    <inertial>
      <origin
        xyz="0.199974015495036 0.877545107523053 -8.88178419700125E-16"
        rpy="0 0 0" />
      <mass
        value="793.355843738093" />
      <inertia
        ixx="190.586500724057"
        ixy="0.0106339468654313"
        ixz="-7.105427357601E-15"
        iyy="14.5624503451681"
        iyz="-3.79030140607028E-13"
        izz="190.582428992398" />
    </inertial>
    <visual>
      <origin
        xyz="0 0 0"
        rpy="0 0 0" />
      <geometry>
        <mesh
          filename="package://msl_skycrane_description/meshes/engine_21.STL" />
      </geometry>
      <material
        name="">
        <color
          rgba="1 0.647058823529412 0.627450980392157 1" />
      </material>
    </visual>
    <collision>
      <origin
        xyz="0 0 0"
        rpy="0 0 0" />
      <geometry>
        <mesh
          filename="package://msl_skycrane_description/meshes/engine_21.STL" />
      </geometry>
    </collision>
  </link>
  <joint
    name="engine_21_joint"
    type="fixed">
    <origin
      xyz="1.68 0.215 0"
      rpy="-3.1416 5.5511E-17 -1.5708" />
    <parent
      link="wrist_21" />
    <child
      link="engine_21" />
    <axis
      xyz="0 0 0" />
  </joint>
  <link
    name="arm_3">
    <inertial>
      <origin
        xyz="0.952435824722895 0.787310574656657 0.849999999999972"
        rpy="0 0 0" />
      <mass
        value="2089.22272867894" />
      <inertia
        ixx="1784.16663646343"
        ixy="-606.123978386154"
        ixz="-5.2874882040983E-12"
        iyy="2459.59622293675"
        iyz="1.72788344294601E-11"
        izz="1988.70377359282" />
    </inertial>
    <visual>
      <origin
        xyz="0 0 0"
        rpy="0 0 0" />
      <geometry>
        <mesh
          filename="package://msl_skycrane_description/meshes/arm_3.STL" />
      </geometry>
      <material
        name="">
        <color
          rgba="0.866666666666667 0.909803921568627 1 1" />
      </material>
    </visual>
    <collision>
      <origin
        xyz="0 0 0"
        rpy="0 0 0" />
      <geometry>
        <mesh
          filename="package://msl_skycrane_description/meshes/arm_3.STL" />
      </geometry>
    </collision>
  </link>
  <joint
    name="arm_3_joint"
    type="fixed">
    <origin
      xyz="-1.249 -2 0.85"
      rpy="3.1416 0 3.1416" />
    <parent
      link="top_plate" />
    <child
      link="arm_3" />
    <axis
      xyz="0 0 0" />
  </joint>
  <link
    name="shoulder_30">
    <inertial>
      <origin
        xyz="-0.000119737245783291 0 0.057175510350397"
        rpy="0 0 0" />
      <mass
        value="8.05560156812752" />
      <inertia
        ixx="0.0468374920636485"
        ixy="1.20865273262022E-19"
        ixz="3.90837016729711E-05"
        iyy="0.0468393660641385"
        iyz="2.49606069854674E-17"
        izz="0.0170993582585797" />
    </inertial>
    <visual>
      <origin
        xyz="0 0 0"
        rpy="0 0 0" />
      <geometry>
        <mesh
          filename="package://msl_skycrane_description/meshes/shoulder_30.STL" />
      </geometry>
      <material
        name="">
        <color
          rgba="0.827450980392157 0.83921568627451 0.827450980392157 1" />
      </material>
    </visual>
    <collision>
      <origin
        xyz="0 0 0"
        rpy="0 0 0" />
      <geometry>
        <mesh
          filename="package://msl_skycrane_description/meshes/shoulder_30.STL" />
      </geometry>
    </collision>
  </link>
  <joint
    name="shoulder_30_joint"
    type="fixed">
    <origin
      xyz="2.45 0.4 0.6"
      rpy="-1.5708 0 0" />
    <parent
      link="arm_3" />
    <child
      link="shoulder_30" />
    <axis
      xyz="0 0 0" />
  </joint>
  <link
    name="elbow_30">
    <inertial>
      <origin
        xyz="0.246282802089477 0.276961524227064 3.66373598126302E-15"
        rpy="0 0 0" />
      <mass
        value="3.03601604481672" />
      <inertia
        ixx="0.0270628957851369"
        ixy="2.91975645050346E-16"
        ixz="-3.9943940191189E-18"
        iyy="0.000825043270771534"
        iyz="6.77099738917469E-16"
        izz="0.0273478762721396" />
    </inertial>
    <visual>
      <origin
        xyz="0 0 0"
        rpy="0 0 0" />
      <geometry>
        <mesh
          filename="package://msl_skycrane_description/meshes/elbow_30.STL" />
      </geometry>
      <material
        name="">
        <color
          rgba="0.647058823529412 0.619607843137255 0.588235294117647 1" />
      </material>
    </visual>
    <collision>
      <origin
        xyz="0 0 0"
        rpy="0 0 0" />
      <geometry>
        <mesh
          filename="package://msl_skycrane_description/meshes/elbow_30.STL" />
      </geometry>
    </collision>
  </link>
  <joint
    name="elbow_30_joint"
    type="fixed">
    <origin
      xyz="0 0 0"
      rpy="1.5708 -1.0472 3.1416" />
    <parent
      link="shoulder_30" />
    <child
      link="elbow_30" />
    <axis
      xyz="0 0 0" />
  </joint>
  <link
    name="wrist_30">
    <inertial>
      <origin
        xyz="0.00983778593517659 0.0978560489226927 1.5299691763504E-08"
        rpy="0 0 0" />
      <mass
        value="2.67912524460953" />
      <inertia
        ixx="0.0143180850393242"
        ixy="-0.00217201259070282"
        ixz="6.72293136248597E-09"
        iyy="0.00205437324612945"
        iyz="-9.26763520059314E-09"
        izz="0.0159156464522073" />
    </inertial>
    <visual>
      <origin
        xyz="0 0 0"
        rpy="0 0 0" />
      <geometry>
        <mesh
          filename="package://msl_skycrane_description/meshes/wrist_30.STL" />
      </geometry>
      <material
        name="">
        <color
          rgba="0.647058823529412 0.619607843137255 0.588235294117647 1" />
      </material>
    </visual>
    <collision>
      <origin
        xyz="0 0 0"
        rpy="0 0 0" />
      <geometry>
        <mesh
          filename="package://msl_skycrane_description/meshes/wrist_30.STL" />
      </geometry>
    </collision>
  </link>
  <joint
    name="wrist_30_joint"
    type="fixed">
    <origin
      xyz="0.24651 0.64624 0"
      rpy="0 0 3.1416" />
    <parent
      link="elbow_30" />
    <child
      link="wrist_30" />
    <axis
      xyz="0 0 0" />
  </joint>
  <link
    name="engine_30">
    <inertial>
      <origin
        xyz="0.199974015495015 0.877545107523058 -4.91273688396632E-15"
        rpy="0 0 0" />
      <mass
        value="793.355843738094" />
      <inertia
        ixx="190.586500724057"
        ixy="0.0106339468610899"
        ixz="2.80580077059026E-16"
        iyy="14.5624503451681"
        iyz="2.29775029809924E-14"
        izz="190.582428992398" />
    </inertial>
    <visual>
      <origin
        xyz="0 0 0"
        rpy="0 0 0" />
      <geometry>
        <mesh
          filename="package://msl_skycrane_description/meshes/engine_30.STL" />
      </geometry>
      <material
        name="">
        <color
          rgba="1 0.647058823529412 0.627450980392157 1" />
      </material>
    </visual>
    <collision>
      <origin
        xyz="0 0 0"
        rpy="0 0 0" />
      <geometry>
        <mesh
          filename="package://msl_skycrane_description/meshes/engine_30.STL" />
      </geometry>
    </collision>
  </link>
  <joint
    name="engine_30_joint"
    type="fixed">
    <origin
      xyz="1.68 0.215 0"
      rpy="-3.1416 -3.0844E-28 -1.5708" />
    <parent
      link="wrist_30" />
    <child
      link="engine_30" />
    <axis
      xyz="0 0 0" />
  </joint>
  <link
    name="shoulder_31">
    <inertial>
      <origin
        xyz="-0.000119737245782847 5.55111512312578E-17 0.057175510350397"
        rpy="0 0 0" />
      <mass
        value="8.05560156812752" />
      <inertia
        ixx="0.0468374920636484"
        ixy="1.65651108451206E-19"
        ixz="3.90837016729714E-05"
        iyy="0.0468393660641384"
        iyz="1.96617350158091E-17"
        izz="0.0170993582585797" />
    </inertial>
    <visual>
      <origin
        xyz="0 0 0"
        rpy="0 0 0" />
      <geometry>
        <mesh
          filename="package://msl_skycrane_description/meshes/shoulder_31.STL" />
      </geometry>
      <material
        name="">
        <color
          rgba="0.827450980392157 0.83921568627451 0.827450980392157 1" />
      </material>
    </visual>
    <collision>
      <origin
        xyz="0 0 0"
        rpy="0 0 0" />
      <geometry>
        <mesh
          filename="package://msl_skycrane_description/meshes/shoulder_31.STL" />
      </geometry>
    </collision>
  </link>
  <joint
    name="shoulder_31_joint"
    type="fixed">
    <origin
      xyz="2.45 0.4 1.1"
      rpy="-1.5708 0 0" />
    <parent
      link="arm_3" />
    <child
      link="shoulder_31" />
    <axis
      xyz="0 0 0" />
  </joint>
  <link
    name="elbow_31">
    <inertial>
      <origin
        xyz="0.246282802089478 0.276961524227063 3.66373598126302E-15"
        rpy="0 0 0" />
      <mass
        value="3.03601604481672" />
      <inertia
        ixx="0.027062895785137"
        ixy="2.94333784775502E-16"
        ixz="-4.08195388360829E-18"
        iyy="0.000825043270771532"
        iyz="6.77913997411786E-16"
        izz="0.0273478762721396" />
    </inertial>
    <visual>
      <origin
        xyz="0 0 0"
        rpy="0 0 0" />
      <geometry>
        <mesh
          filename="package://msl_skycrane_description/meshes/elbow_31.STL" />
      </geometry>
      <material
        name="">
        <color
          rgba="0.647058823529412 0.619607843137255 0.588235294117647 1" />
      </material>
    </visual>
    <collision>
      <origin
        xyz="0 0 0"
        rpy="0 0 0" />
      <geometry>
        <mesh
          filename="package://msl_skycrane_description/meshes/elbow_31.STL" />
      </geometry>
    </collision>
  </link>
  <joint
    name="elbow_31_joint"
    type="fixed">
    <origin
      xyz="0 0 0"
      rpy="1.5708 -1.0472 3.1416" />
    <parent
      link="shoulder_31" />
    <child
      link="elbow_31" />
    <axis
      xyz="0 0 0" />
  </joint>
  <link
    name="wrist_31">
    <inertial>
      <origin
        xyz="0.00983778593517792 0.097856048922691 1.52996917357484E-08"
        rpy="0 0 0" />
      <mass
        value="2.67912524460955" />
      <inertia
        ixx="0.0143180850393243"
        ixy="-0.0021720125907029"
        ixz="6.72293136809381E-09"
        iyy="0.00205437324612952"
        iyz="-9.26763521530965E-09"
        izz="0.0159156464522075" />
    </inertial>
    <visual>
      <origin
        xyz="0 0 0"
        rpy="0 0 0" />
      <geometry>
        <mesh
          filename="package://msl_skycrane_description/meshes/wrist_31.STL" />
      </geometry>
      <material
        name="">
        <color
          rgba="0.647058823529412 0.619607843137255 0.588235294117647 1" />
      </material>
    </visual>
    <collision>
      <origin
        xyz="0 0 0"
        rpy="0 0 0" />
      <geometry>
        <mesh
          filename="package://msl_skycrane_description/meshes/wrist_31.STL" />
      </geometry>
    </collision>
  </link>
  <joint
    name="wrist_31_joint"
    type="fixed">
    <origin
      xyz="0.24651 0.64624 0"
      rpy="0 0 3.1416" />
    <parent
      link="elbow_31" />
    <child
      link="wrist_31" />
    <axis
      xyz="0 0 0" />
  </joint>
  <link
    name="engine_31">
    <inertial>
      <origin
        xyz="0.199974015495015 0.877545107523057 -7.66053886991358E-15"
        rpy="0 0 0" />
      <mass
        value="793.355843738094" />
      <inertia
        ixx="190.586500724057"
        ixy="0.0106339468611503"
        ixz="-7.02133363173509E-15"
        iyy="14.5624503451681"
        iyz="-4.81585225025584E-13"
        izz="190.582428992398" />
    </inertial>
    <visual>
      <origin
        xyz="0 0 0"
        rpy="0 0 0" />
      <geometry>
        <mesh
          filename="package://msl_skycrane_description/meshes/engine_31.STL" />
      </geometry>
      <material
        name="">
        <color
          rgba="1 0.647058823529412 0.627450980392157 1" />
      </material>
    </visual>
    <collision>
      <origin
        xyz="0 0 0"
        rpy="0 0 0" />
      <geometry>
        <mesh
          filename="package://msl_skycrane_description/meshes/engine_31.STL" />
      </geometry>
    </collision>
  </link>
  <joint
    name="engine_31_joint"
    type="fixed">
    <origin
      xyz="1.68 0.215 0"
      rpy="-3.1416 -3.7076E-28 -1.5708" />
    <parent
      link="wrist_31" />
    <child
      link="engine_31" />
    <axis
      xyz="0 0 0" />
  </joint>
</robot>
